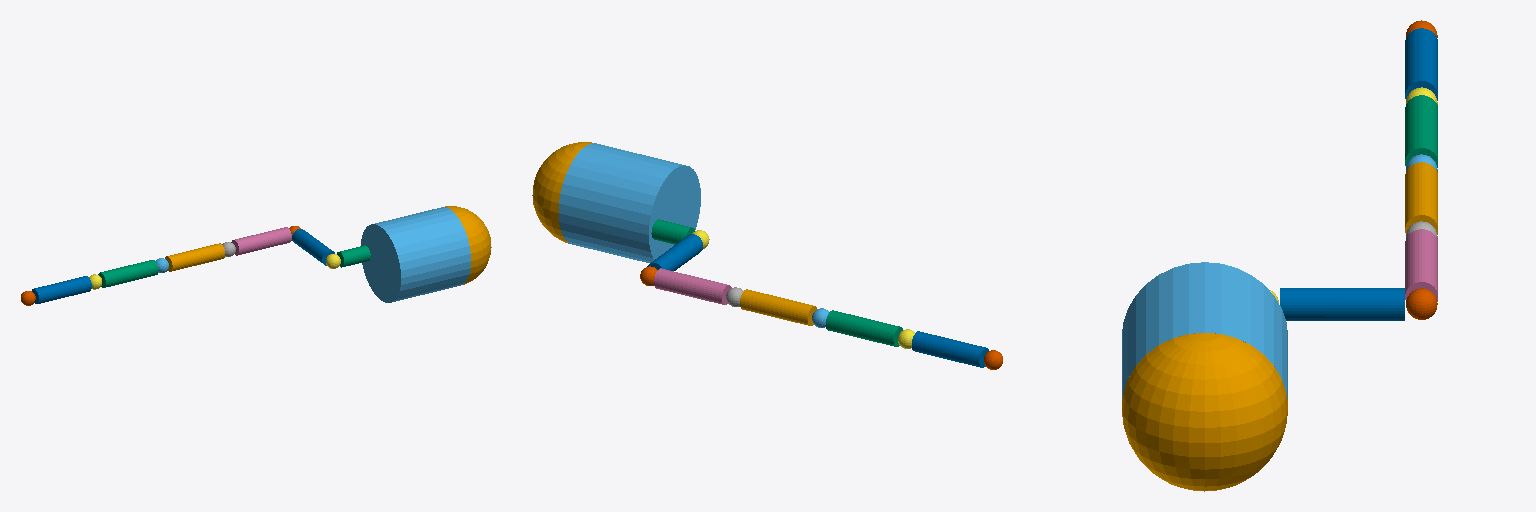
robot.urdf — sentinel/octopus_1_arms_4_segments:
<?xml version="1.0"?>
<robot name="sentinel/octopus_1_arms_4_segments">
<link name="eye">
  <inertial>
   <mass value="1"/>
   <inertia ixx="0.004000000000000001" ixy="0" ixz="0" iyy="0.004000000000000001" iyz="0" izz="0.004000000000000001"/>
  </inertial>
  <collision>
    <origin rpy="0 0 0" xyz="0 0 0"/>
    <geometry>
      <sphere radius="0.1"/>
    </geometry>
  </collision>
  <visual>
    <origin rpy="0 0 0" xyz="0 0 0"/>
    <geometry>
      <sphere radius="0.1"/>
    </geometry>
  </visual>
</link>

 <link name="head">
  <inertial>
    <mass value="1"/>
    <inertia ixx="0.0058333333333333345" ixy="0" ixz="0" iyy="0.0058333333333333345" iyz="0" izz="0.0025000000000000005"/>
  </inertial>
  <visual>
    <origin rpy="0 1.57 0" xyz="-0.1 0 0"/>
    <geometry>
      <cylinder length="0.2" radius="0.1"/>
    </geometry>
  </visual>
  <collision>
    <origin rpy="0 1.57 0" xyz="-0.1 0 0"/>
    <geometry>
      <cylinder length="0.2" radius="0.1"/>
    </geometry>
  </collision>
 </link>

<joint name="joint_fixed_eye_head" type="fixed">
  <origin rpy="0 0 0" xyz="0 0 0"/>
  <parent link="eye"/>
  <child link="head"/>
</joint>

<!--############################################################################
branch_00
##############################################################################-->
 <link name="branch_00_cylinder_stub">
  <inertial>
    <mass value="1"/>
    <inertia ixx="0.0005687499999999999" ixy="0" ixz="0" iyy="0.0005687499999999999" iyz="0" izz="0.0001"/>
  </inertial>
  <visual>
    <origin rpy="0 1.57 0" xyz="-0.0375 0 0"/>
    <geometry>
      <cylinder length="0.075" radius="0.02"/>
    </geometry>
  </visual>
  <collision>
    <origin rpy="0 1.57 0" xyz="-0.0375 0 0"/>
    <geometry>
      <cylinder length="0.075" radius="0.02"/>
    </geometry>
  </collision>
 </link>

<joint name="joint_fixed_head_branch_00_cylinder_stub" type="fixed">
  <origin rpy="0 0 0" xyz="-0.2 0.06999999999999999 0.0"/>
  <parent link="head"/>
  <child link="branch_00_cylinder_stub"/>
</joint>

<link name="branch_00_sphere_stub">
  <inertial>
   <mass value="1"/>
   <inertia ixx="0.00014439999999999999" ixy="0" ixz="0" iyy="0.00014439999999999999" iyz="0" izz="0.00014439999999999999"/>
  </inertial>
  <collision>
    <origin rpy="0 0 0" xyz="-0.095 0 0"/>
    <geometry>
      <sphere radius="0.019"/>
    </geometry>
  </collision>
  <visual>
    <origin rpy="0 0 0" xyz="-0.095 0 0"/>
    <geometry>
      <sphere radius="0.019"/>
    </geometry>
  </visual>
</link>

<joint name="joint_fixed_branch_00_cylinder_stub_branch_00_sphere_stub" type="fixed">
  <origin rpy="0 0 0" xyz="0 0 0"/>
  <parent link="branch_00_cylinder_stub"/>
  <child link="branch_00_sphere_stub"/>
</joint>

 <link name="branch_00_cylinder">
  <inertial>
    <mass value="1"/>
    <inertia ixx="0.0019749999999999998" ixy="0" ixz="0" iyy="0.0019749999999999998" iyz="0" izz="0.0001"/>
  </inertial>
  <visual>
    <origin rpy="0 1.5707963267948966 1.57" xyz="-0.095 0.095 0.0"/>
    <geometry>
      <cylinder length="0.15" radius="0.02"/>
    </geometry>
  </visual>
  <collision>
    <origin rpy="0 1.5707963267948966 1.57" xyz="-0.095 0.095 0.0"/>
    <geometry>
      <cylinder length="0.15" radius="0.02"/>
    </geometry>
  </collision>
 </link>

<joint name="joint_fixed_branch_00_sphere_stub_branch_00_cylinder" type="fixed">
  <origin rpy="0 0 0" xyz="0 0 0"/>
  <parent link="branch_00_sphere_stub"/>
  <child link="branch_00_cylinder"/>
</joint>

<link name="branch_00">
  <inertial>
   <mass value="1"/>
   <inertia ixx="0.00014439999999999999" ixy="0" ixz="0" iyy="0.00014439999999999999" iyz="0" izz="0.00014439999999999999"/>
  </inertial>
  <collision>
    <origin rpy="0 0 0" xyz="0 0 0"/>
    <geometry>
      <sphere radius="0.019"/>
    </geometry>
  </collision>
  <visual>
    <origin rpy="0 0 0" xyz="0 0 0"/>
    <geometry>
      <sphere radius="0.019"/>
    </geometry>
  </visual>
</link>

<joint name="joint_fixed_branch_00_cylinder_branch_00" type="fixed">
  <origin rpy="0 0 0" xyz="-0.095 0.19 0.0"/>
  <parent link="branch_00_cylinder"/>
  <child link="branch_00"/>
</joint>

<!--############################################################################
branch_01
##############################################################################-->
 <link name="branch_01_cylinder">
  <inertial>
    <mass value="1"/>
    <inertia ixx="0.0019749999999999998" ixy="0" ixz="0" iyy="0.0019749999999999998" iyz="0" izz="0.0001"/>
  </inertial>
  <visual>
    <origin rpy="0 1.57 0" xyz="-0.095 0 0"/>
    <geometry>
      <cylinder length="0.15" radius="0.02"/>
    </geometry>
  </visual>
  <collision>
    <origin rpy="0 1.57 0" xyz="-0.095 0 0"/>
    <geometry>
      <cylinder length="0.15" radius="0.02"/>
    </geometry>
  </collision>
 </link>

<joint name="joint_revolute_branch_00_branch_01_cylinder_Z" type="revolute">
  <origin rpy="0 0 0" xyz="0 0 0"/>
  <parent link="branch_00"/>
  <child link="branch_01_cylinder"/>
  <axis xyz="0 0.0 -1.0"/>
  <dynamics damping="0.01" friction="0.5"/>
  <limit lower="-1.5707963267948966" upper="1.5707963267948966" effort="0.01" velocity="100"/>
</joint>

<link name="branch_01">
  <inertial>
   <mass value="1"/>
   <inertia ixx="0.00014439999999999999" ixy="0" ixz="0" iyy="0.00014439999999999999" iyz="0" izz="0.00014439999999999999"/>
  </inertial>
  <collision>
    <origin rpy="0 0 0" xyz="0 0 0"/>
    <geometry>
      <sphere radius="0.019"/>
    </geometry>
  </collision>
  <visual>
    <origin rpy="0 0 0" xyz="0 0 0"/>
    <geometry>
      <sphere radius="0.019"/>
    </geometry>
  </visual>
</link>

<joint name="joint_fixed_branch_01_cylinder_branch_01" type="fixed">
  <origin rpy="0 0 0" xyz="-0.19 0 0"/>
  <parent link="branch_01_cylinder"/>
  <child link="branch_01"/>
</joint>

<!--############################################################################
branch_02
##############################################################################-->
 <link name="branch_02_cylinder">
  <inertial>
    <mass value="1"/>
    <inertia ixx="0.0019749999999999998" ixy="0" ixz="0" iyy="0.0019749999999999998" iyz="0" izz="0.0001"/>
  </inertial>
  <visual>
    <origin rpy="0 1.57 0" xyz="-0.095 0 0"/>
    <geometry>
      <cylinder length="0.15" radius="0.02"/>
    </geometry>
  </visual>
  <collision>
    <origin rpy="0 1.57 0" xyz="-0.095 0 0"/>
    <geometry>
      <cylinder length="0.15" radius="0.02"/>
    </geometry>
  </collision>
 </link>

<joint name="joint_revolute_branch_01_branch_02_cylinder_Z" type="revolute">
  <origin rpy="0 0 0" xyz="0 0 0"/>
  <parent link="branch_01"/>
  <child link="branch_02_cylinder"/>
  <axis xyz="0 0.0 -1.0"/>
  <dynamics damping="0.01" friction="0.5"/>
  <limit lower="-1.5707963267948966" upper="1.5707963267948966" effort="0.01" velocity="100"/>
</joint>

<link name="branch_02">
  <inertial>
   <mass value="1"/>
   <inertia ixx="0.00014439999999999999" ixy="0" ixz="0" iyy="0.00014439999999999999" iyz="0" izz="0.00014439999999999999"/>
  </inertial>
  <collision>
    <origin rpy="0 0 0" xyz="0 0 0"/>
    <geometry>
      <sphere radius="0.019"/>
    </geometry>
  </collision>
  <visual>
    <origin rpy="0 0 0" xyz="0 0 0"/>
    <geometry>
      <sphere radius="0.019"/>
    </geometry>
  </visual>
</link>

<joint name="joint_fixed_branch_02_cylinder_branch_02" type="fixed">
  <origin rpy="0 0 0" xyz="-0.19 0 0"/>
  <parent link="branch_02_cylinder"/>
  <child link="branch_02"/>
</joint>

<!--############################################################################
branch_03
##############################################################################-->
 <link name="branch_03_cylinder">
  <inertial>
    <mass value="1"/>
    <inertia ixx="0.0019749999999999998" ixy="0" ixz="0" iyy="0.0019749999999999998" iyz="0" izz="0.0001"/>
  </inertial>
  <visual>
    <origin rpy="0 1.57 0" xyz="-0.095 0 0"/>
    <geometry>
      <cylinder length="0.15" radius="0.02"/>
    </geometry>
  </visual>
  <collision>
    <origin rpy="0 1.57 0" xyz="-0.095 0 0"/>
    <geometry>
      <cylinder length="0.15" radius="0.02"/>
    </geometry>
  </collision>
 </link>

<joint name="joint_revolute_branch_02_branch_03_cylinder_Z" type="revolute">
  <origin rpy="0 0 0" xyz="0 0 0"/>
  <parent link="branch_02"/>
  <child link="branch_03_cylinder"/>
  <axis xyz="0 0.0 -1.0"/>
  <dynamics damping="0.01" friction="0.5"/>
  <limit lower="-1.5707963267948966" upper="1.5707963267948966" effort="0.01" velocity="100"/>
</joint>

<link name="branch_03">
  <inertial>
   <mass value="1"/>
   <inertia ixx="0.00014439999999999999" ixy="0" ixz="0" iyy="0.00014439999999999999" iyz="0" izz="0.00014439999999999999"/>
  </inertial>
  <collision>
    <origin rpy="0 0 0" xyz="0 0 0"/>
    <geometry>
      <sphere radius="0.019"/>
    </geometry>
  </collision>
  <visual>
    <origin rpy="0 0 0" xyz="0 0 0"/>
    <geometry>
      <sphere radius="0.019"/>
    </geometry>
  </visual>
</link>

<joint name="joint_fixed_branch_03_cylinder_branch_03" type="fixed">
  <origin rpy="0 0 0" xyz="-0.19 0 0"/>
  <parent link="branch_03_cylinder"/>
  <child link="branch_03"/>
</joint>

<!--############################################################################
branch_04
##############################################################################-->
 <link name="branch_04_cylinder">
  <inertial>
    <mass value="1"/>
    <inertia ixx="0.0019749999999999998" ixy="0" ixz="0" iyy="0.0019749999999999998" iyz="0" izz="0.0001"/>
  </inertial>
  <visual>
    <origin rpy="0 1.57 0" xyz="-0.095 0 0"/>
    <geometry>
      <cylinder length="0.15" radius="0.02"/>
    </geometry>
  </visual>
  <collision>
    <origin rpy="0 1.57 0" xyz="-0.095 0 0"/>
    <geometry>
      <cylinder length="0.15" radius="0.02"/>
    </geometry>
  </collision>
 </link>

<joint name="joint_revolute_branch_03_branch_04_cylinder_Z" type="revolute">
  <origin rpy="0 0 0" xyz="0 0 0"/>
  <parent link="branch_03"/>
  <child link="branch_04_cylinder"/>
  <axis xyz="0 0.0 -1.0"/>
  <dynamics damping="0.01" friction="0.5"/>
  <limit lower="-1.5707963267948966" upper="1.5707963267948966" effort="0.01" velocity="100"/>
</joint>

<link name="branch_04">
  <inertial>
   <mass value="1"/>
   <inertia ixx="0.00014439999999999999" ixy="0" ixz="0" iyy="0.00014439999999999999" iyz="0" izz="0.00014439999999999999"/>
  </inertial>
  <collision>
    <origin rpy="0 0 0" xyz="0 0 0"/>
    <geometry>
      <sphere radius="0.019"/>
    </geometry>
  </collision>
  <visual>
    <origin rpy="0 0 0" xyz="0 0 0"/>
    <geometry>
      <sphere radius="0.019"/>
    </geometry>
  </visual>
</link>

<joint name="joint_fixed_branch_04_cylinder_branch_04" type="fixed">
  <origin rpy="0 0 0" xyz="-0.19 0 0"/>
  <parent link="branch_04_cylinder"/>
  <child link="branch_04"/>
</joint>

  <klampt package_root="../../.." default_acc_max="4" >
  </klampt>
</robot>

--- What the picture shows (computed from the rendered views, not written in the file) ---
The picture shows the robot from 3 angles, left to right: view 1: azimuth 30°, elevation 25°; view 2: azimuth 150°, elevation 25°; view 3: azimuth 270°, elevation 25°; orthographic projection.
Robot: sentinel/octopus_1_arms_4_segments — 14 links, 13 joints (4 revolute, 9 fixed); root link eye; default pose: all joints at 0.
Links seen in each view (by area): view 1: head, eye, branch_01_cylinder, branch_02_cylinder, branch_04_cylinder, branch_03_cylinder, branch_00_cylinder; view 2: head, eye, branch_02_cylinder, branch_01_cylinder, branch_03_cylinder, branch_04_cylinder, branch_00_cylinder, branch_00_cylinder_stub; view 3: eye, head, branch_00_cylinder, branch_04_cylinder, branch_03_cylinder, branch_01_cylinder, branch_02_cylinder, branch_00.
Boxes of the visible links, <box> form: head: <box>361,207,470,302</box>; eye: <box>445,206,491,284</box>; branch_01_cylinder: <box>231,227,291,255</box>; branch_02_cylinder: <box>165,243,224,271</box>; branch_04_cylinder: <box>32,276,91,303</box>; branch_03_cylinder: <box>98,260,158,287</box>; branch_00_cylinder: <box>292,229,334,265</box>; head: <box>559,143,700,262</box>; eye: <box>532,142,591,243</box>; branch_02_cylinder: <box>740,289,816,325</box>; branch_01_cylinder: <box>654,268,731,304</box>; branch_03_cylinder: <box>826,310,902,346</box>; branch_04_cylinder: <box>912,331,988,367</box>; branch_00_cylinder: <box>647,234,702,270</box>; branch_00_cylinder_stub: <box>651,219,694,244</box>; eye: <box>1122,333,1287,491</box>; head: <box>1122,262,1287,399</box>; branch_00_cylinder: <box>1280,288,1404,320</box>; branch_04_cylinder: <box>1405,28,1437,100</box>; branch_03_cylinder: <box>1405,95,1437,167</box>; branch_01_cylinder: <box>1405,229,1437,301</box>; branch_02_cylinder: <box>1405,162,1437,234</box>; branch_00: <box>1406,288,1437,319</box>.
Size in the robot's own frame: 1.17 by 0.38 by 0.2002 metres.
Geometry: primitives only (box / cylinder / sphere), no mesh files.